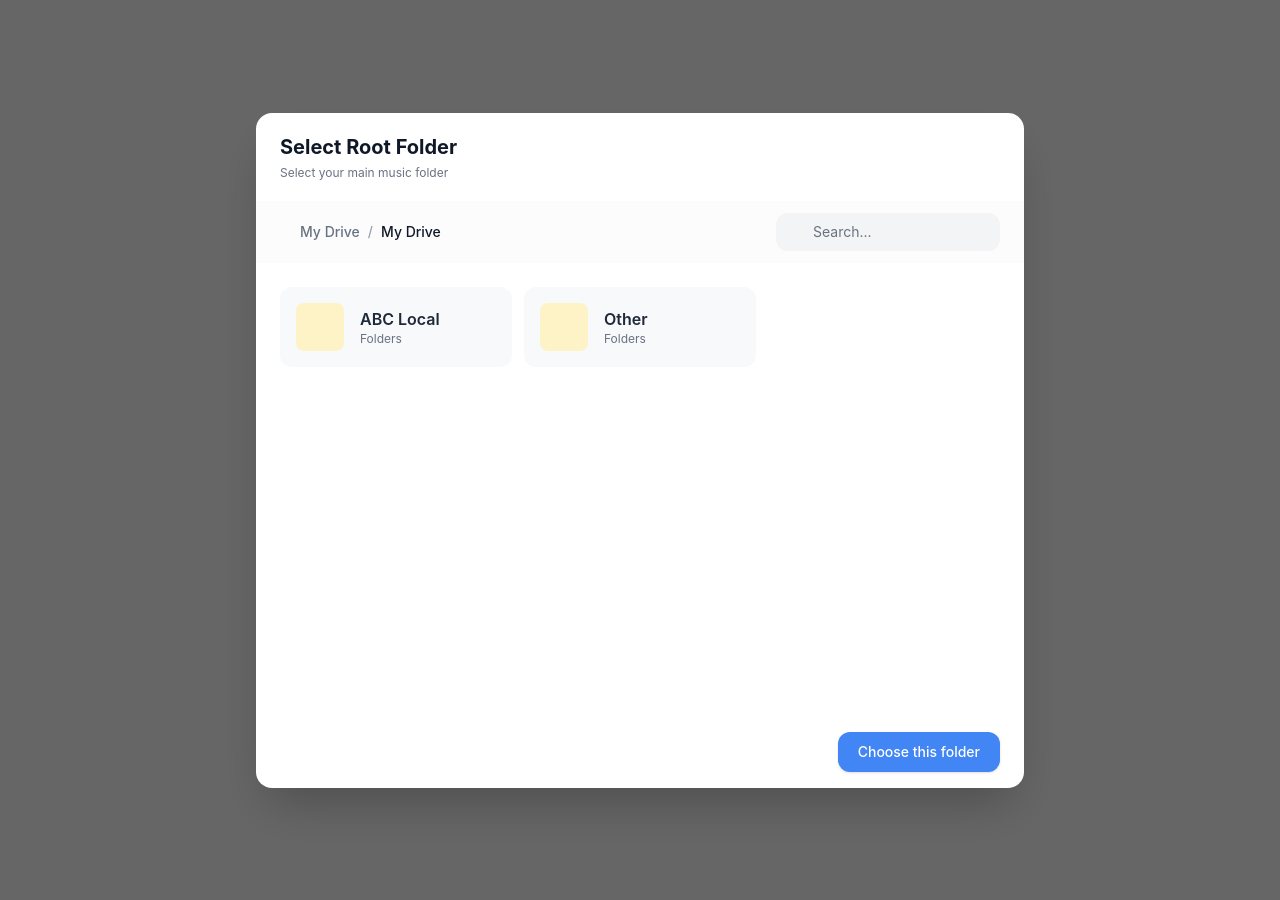
FolderSelectionScreen API search gating › drops an API search hit whose id already renders in the local listing (no duplicate card)
The image size is (1280, 900).
Step 1. Type "abc" into the field with placeholder "Search..." → (888, 232), box [776,212,1000,250]
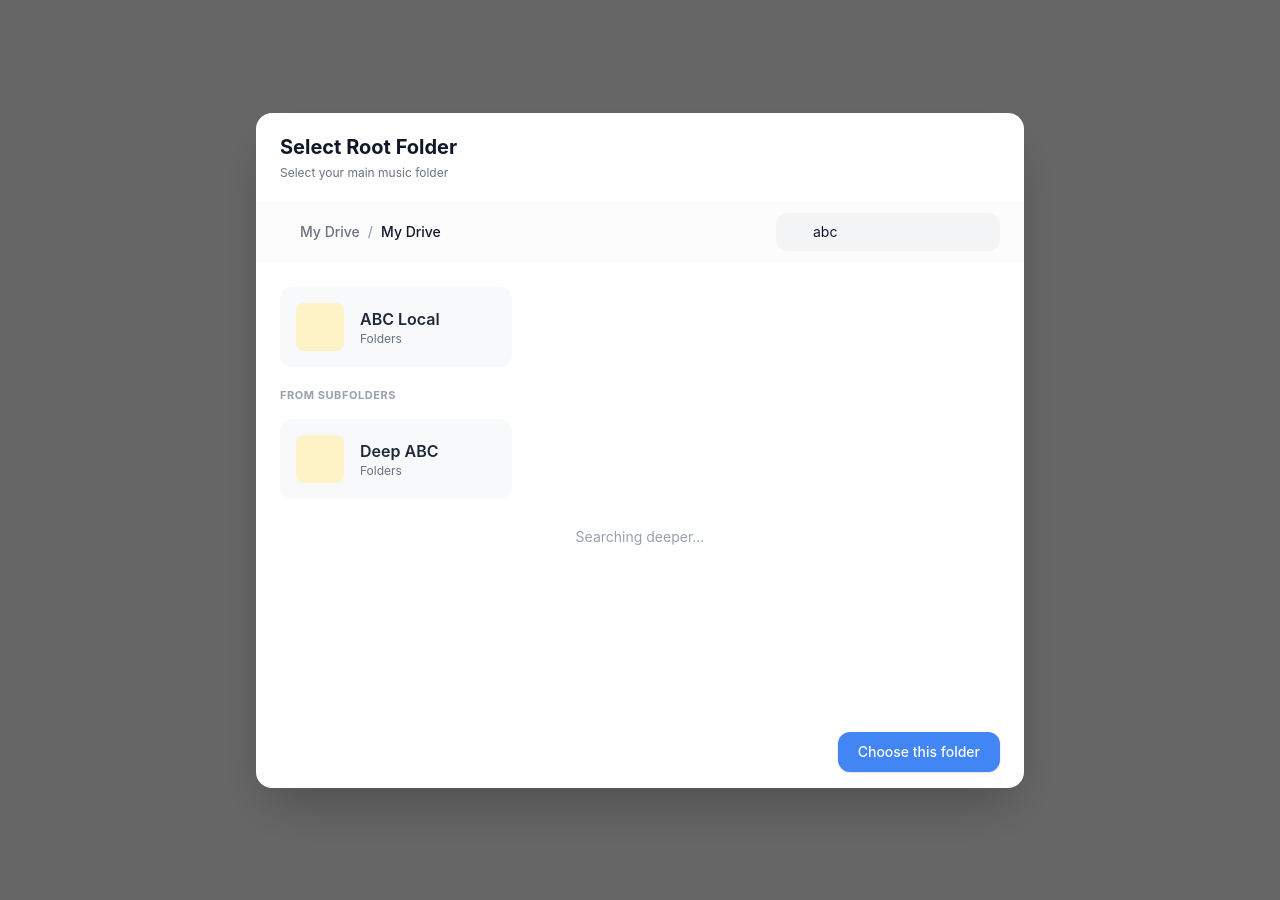
Check: the number of headings "ABC Local" is 1, box [360,308,440,328]
Check: the heading "Deep ABC" is shown, box [360,441,438,461]
